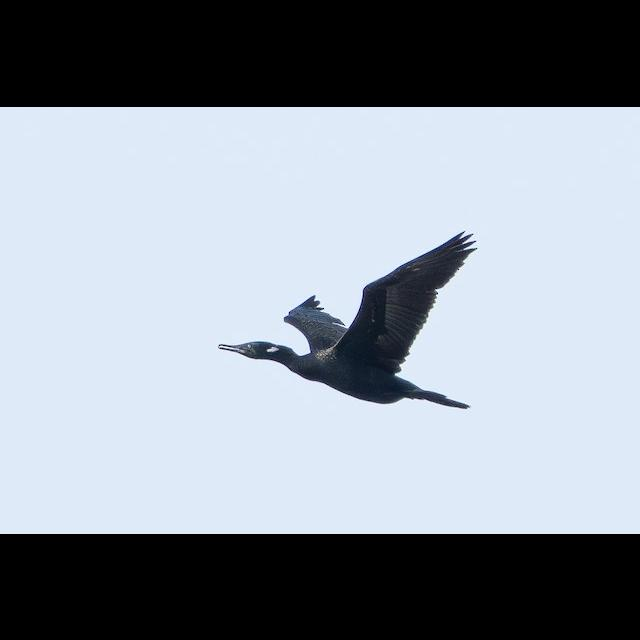cormorant: (215, 228, 477, 424)
